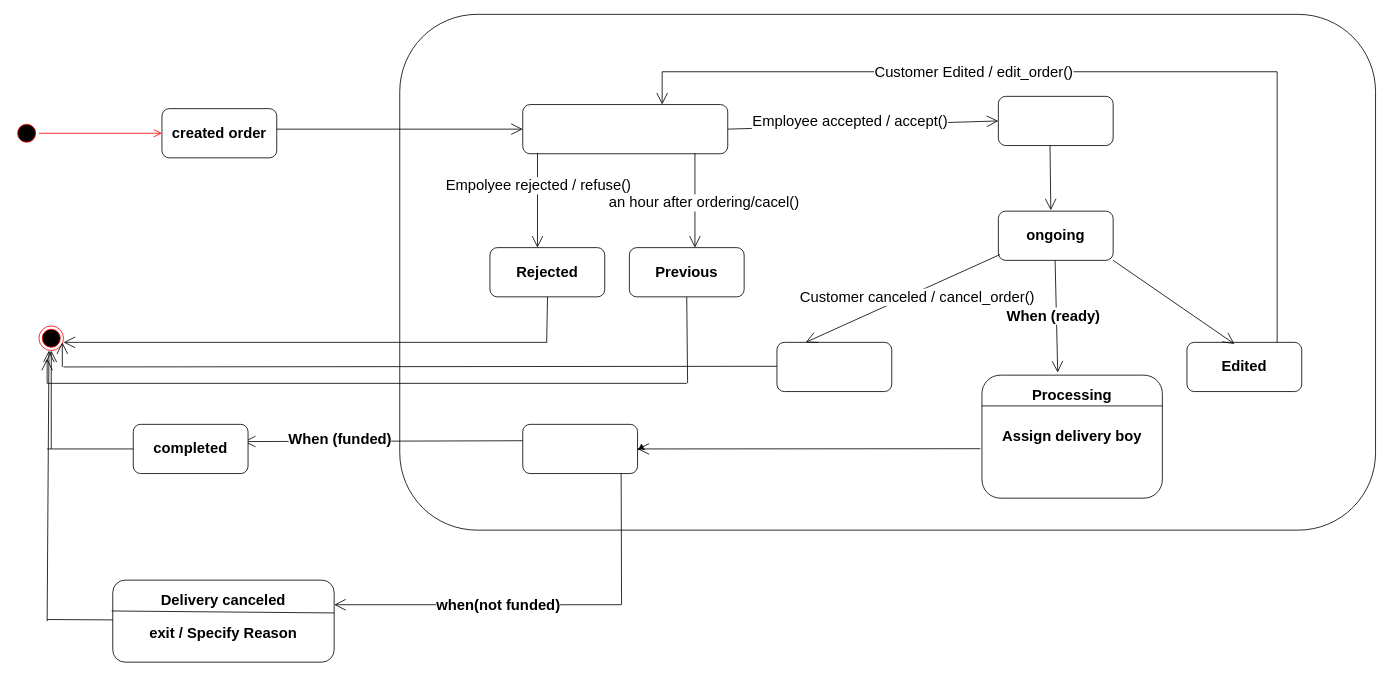
Image size: 1390x677. Some labels were removed from this diagram. The centre of each missing label's shape, as x and y in pixels:
"Accepted" goes at (1055,121).
"Canceled" goes at (834,367).
"Dispatched" goes at (580,449).
"Pending" goes at (625,129).
